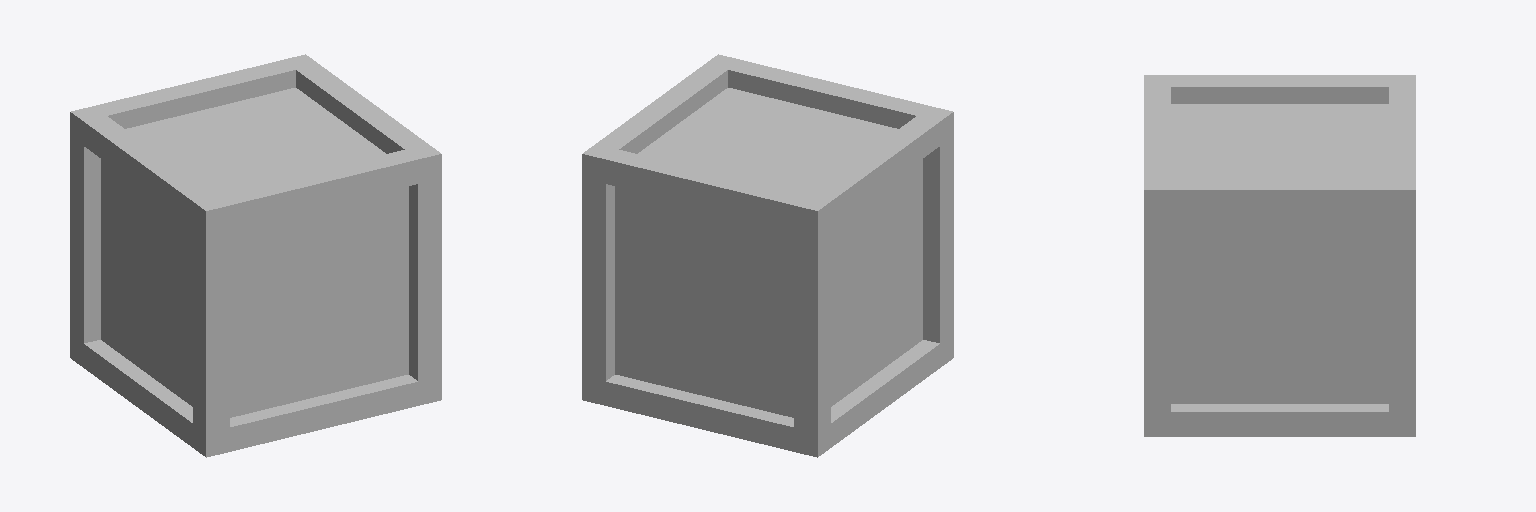
The model's file is breakable_wall.obj.
3 views of the same model, side by side, from view 1: azimuth 30°, elevation 25°; view 2: azimuth 150°, elevation 25°; view 3: azimuth 270°, elevation 25° (orthographic).
Parts seen in each view (by area): view 1: Cube.002; view 2: Cube.002; view 3: Cube.002.
Boxes of the visible parts, <box> form: Cube.002: <box>70,54,441,457</box>; Cube.002: <box>582,54,953,457</box>; Cube.002: <box>1144,75,1415,436</box>.
Bounding box in the file's own units: 1.01 × 1.01 × 1.01.